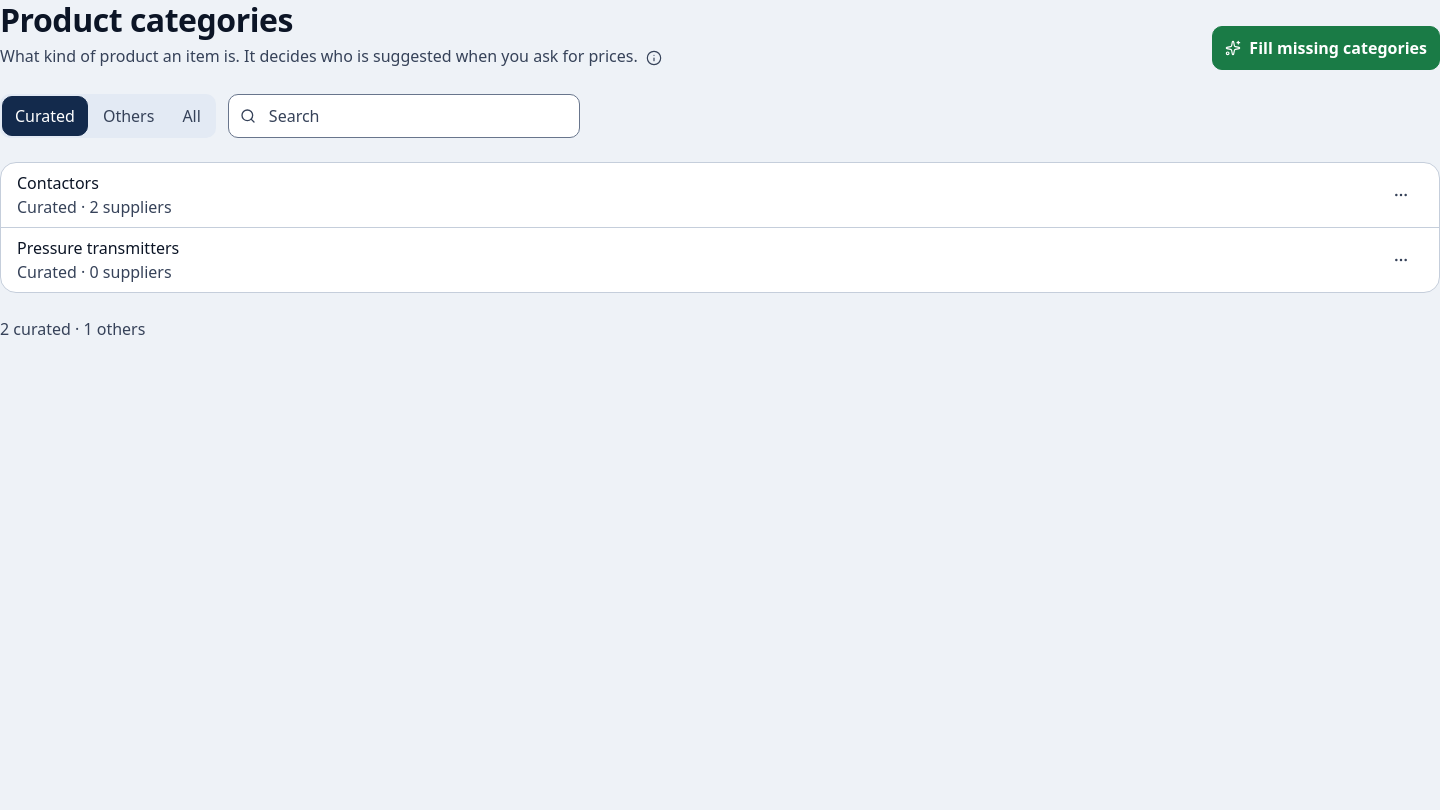
Test: Settings > Product categories › Fill missing categories shows the counts per category first, then fills only on the button
Expected: the list named "Product categories" is shown, 0,162 -> 1439,293
Click the button "Fill missing categories" at (1326, 48), box 1212,26 -> 1439,70
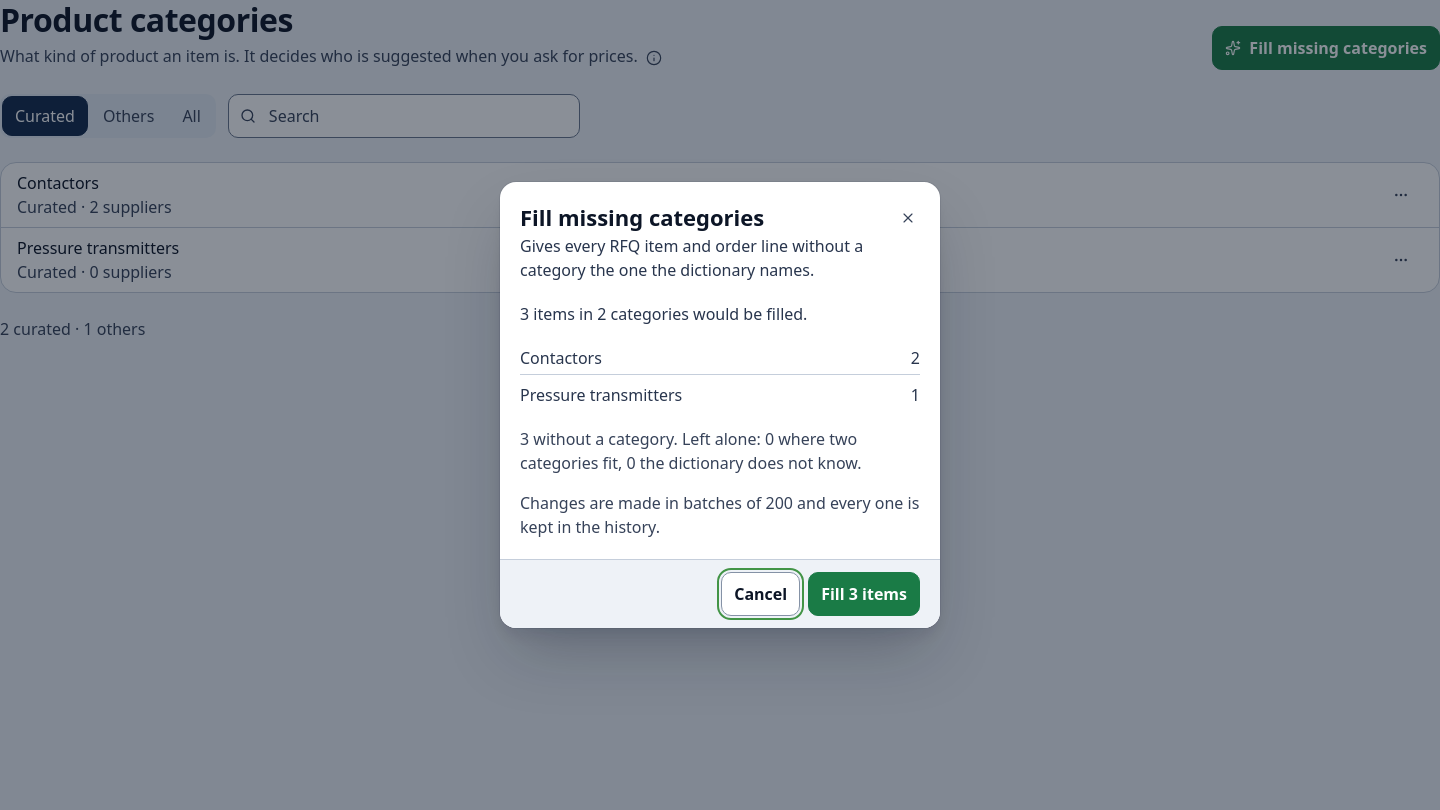
Expected: the text with test id "fill-summary" shows "3 items in 2 categories would be filled", 520,303 -> 807,325
Expected: the list item "Contactors" shows "2", 911,347 -> 920,369
Click the button "Fill 3 items" at (864, 594), box 808,572 -> 920,616
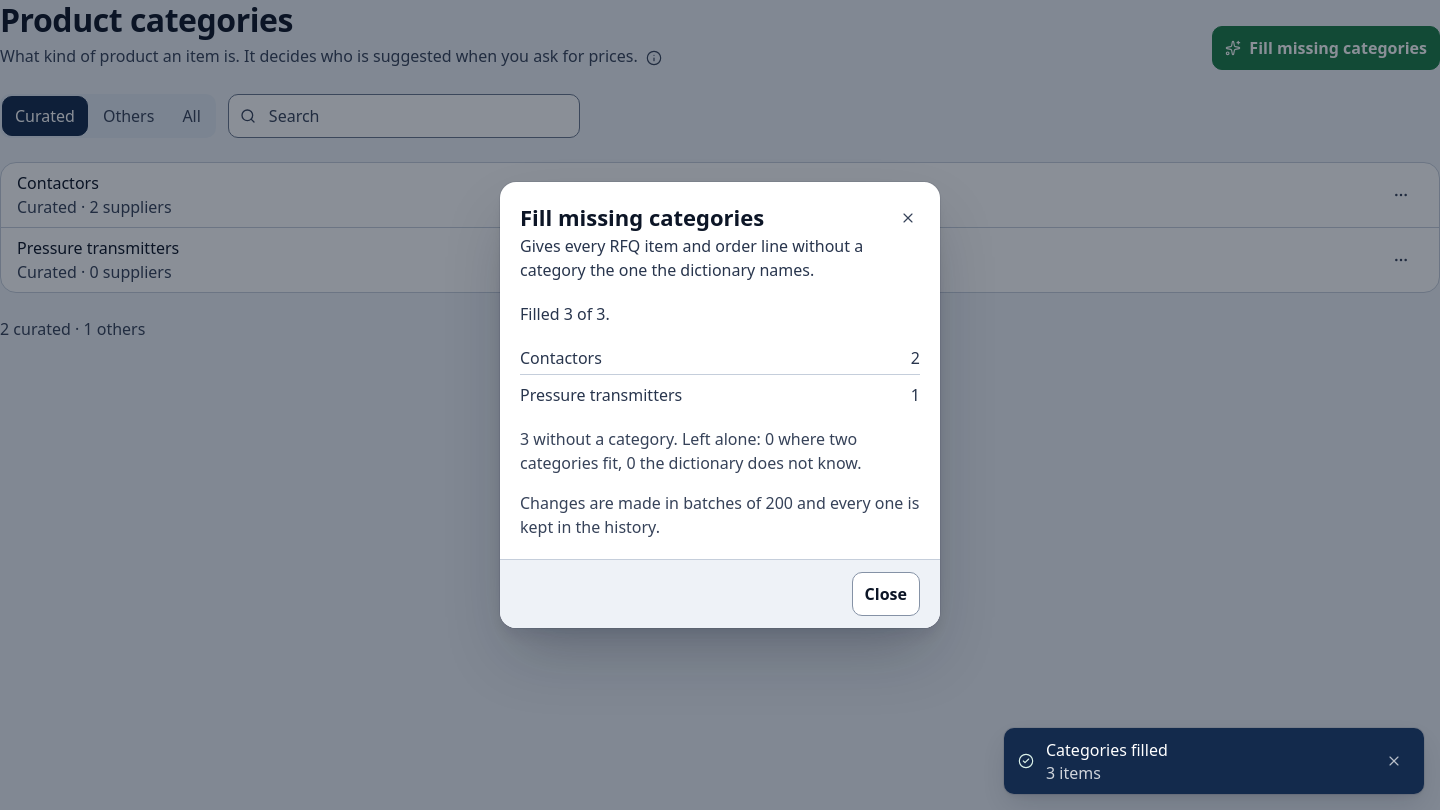
Expected: the text with test id "fill-summary" shows "Filled 3 of 3", 520,303 -> 610,325
